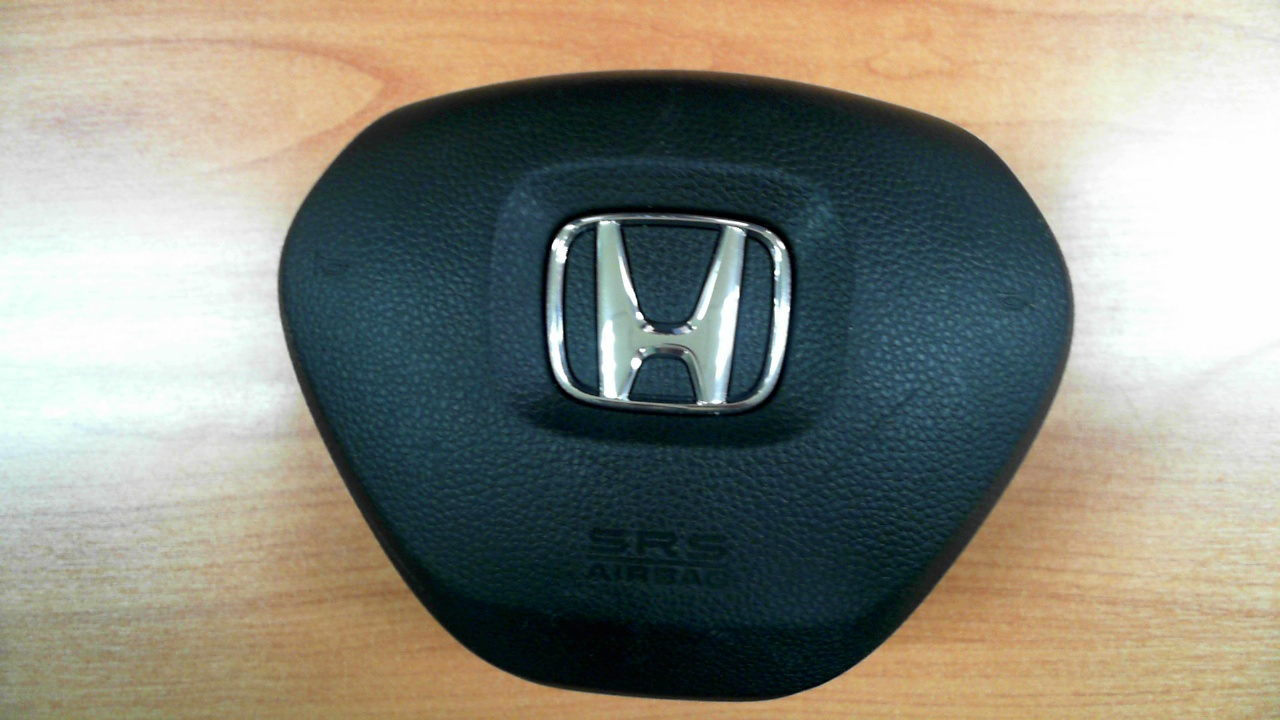Airbag: (276, 68, 1075, 703)
Honda: (546, 214, 792, 411)
